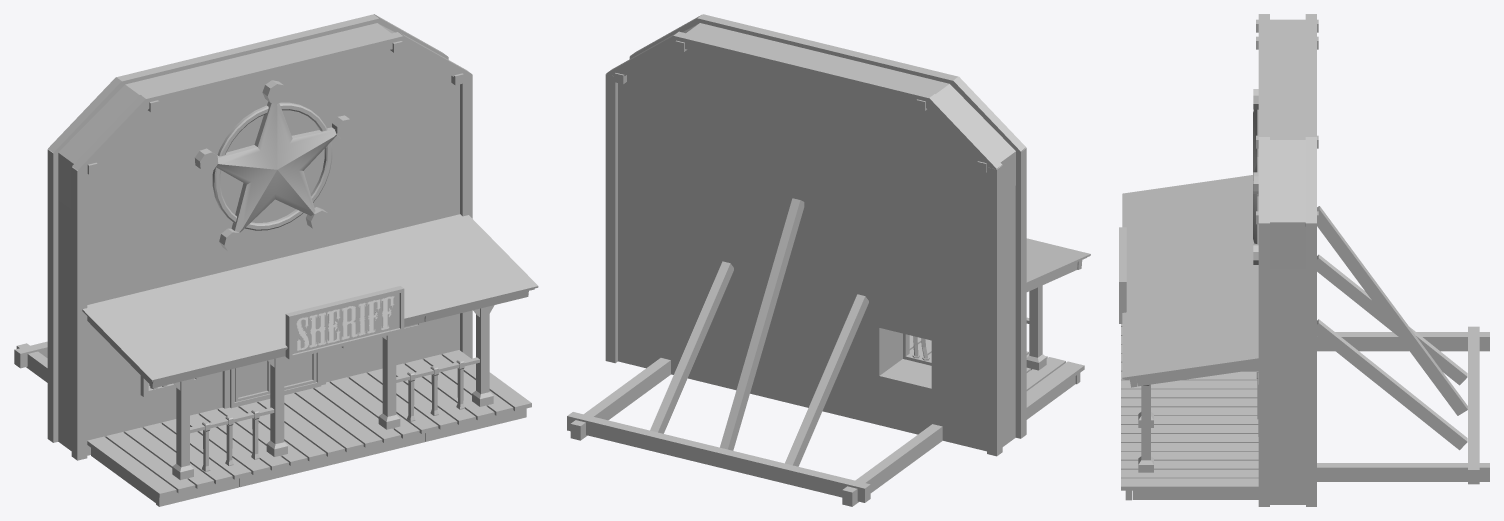
The model's file is SM_SHERIFF.fbx.
3 renders of one model, left to right at view 1: azimuth 30°, elevation 25°; view 2: azimuth 150°, elevation 25°; view 3: azimuth 270°, elevation 25°, orthographic. The views are drawn at different scales.
Parts seen in each view (by area): view 1: SM_SHERIFF_BUILDING; view 2: SM_SHERIFF_BUILDING; view 3: SM_SHERIFF_BUILDING.
Boxes of the visible parts, box(x1,y1,x2,y2) form: SM_SHERIFF_BUILDING: box(14, 14, 538, 506); SM_SHERIFF_BUILDING: box(567, 14, 1090, 506); SM_SHERIFF_BUILDING: box(1119, 14, 1489, 506).
Bounding box in the file's own units: 1012 × 846 × 842.
